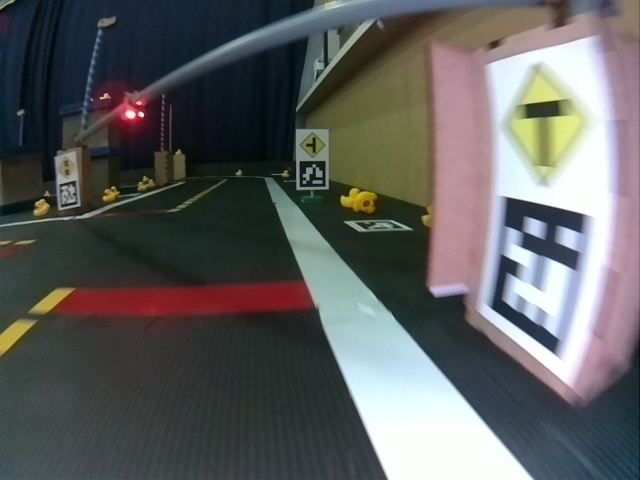Duckie: (356, 191, 376, 213), (342, 188, 360, 208), (34, 202, 49, 211), (103, 189, 112, 199), (110, 186, 119, 196)
Intersection sign: (499, 65, 584, 187), (298, 131, 326, 155)
QR code: (479, 200, 601, 370), (347, 219, 413, 232), (298, 160, 326, 188), (60, 185, 76, 208)
Signal sign: (57, 156, 77, 179)
Traffic light: (125, 92, 145, 121)
